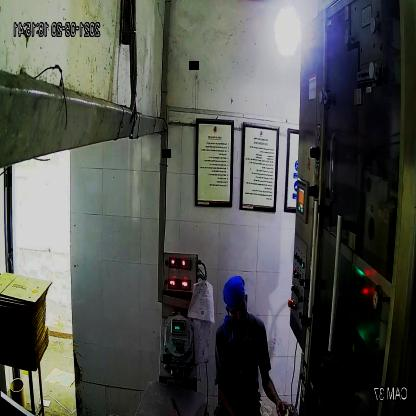goggles: (227, 299, 248, 320)
